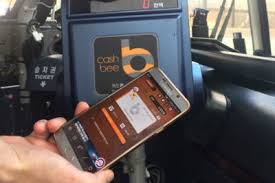terminal: (58, 1, 202, 123)
